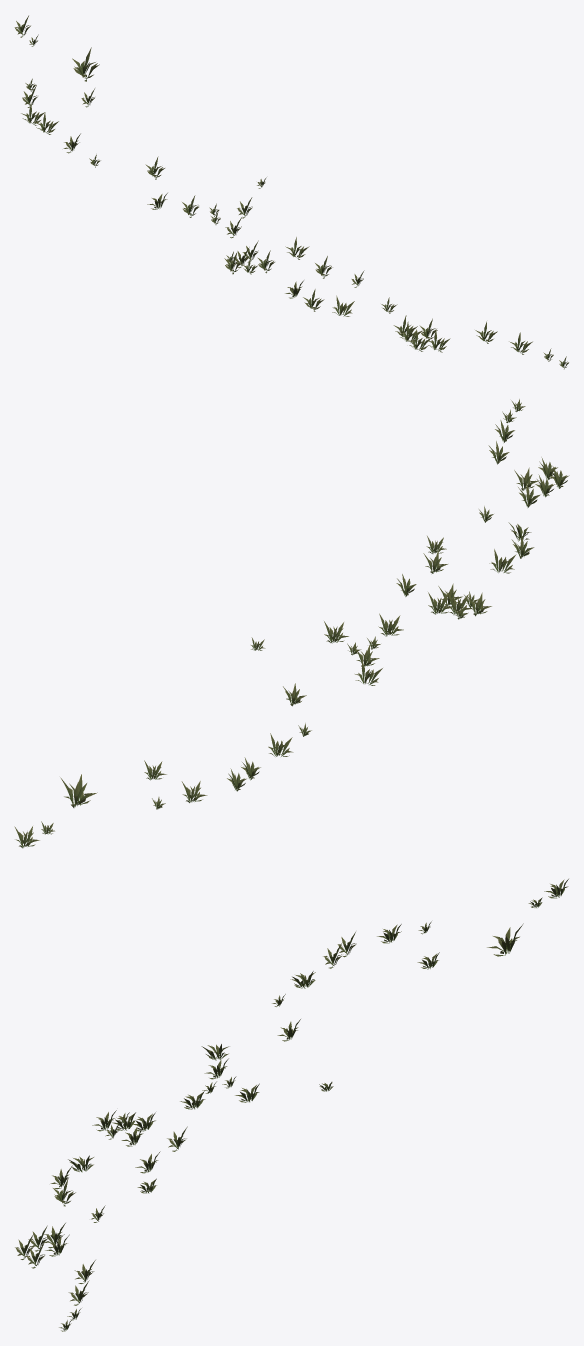
Rendered from Area_09_15.fbx.
3 renders of one model, top to bottom at view 1: azimuth 30°, elevation 25°; view 2: azimuth 150°, elevation 25°; view 3: azimuth 330°, elevation 25°, orthographic. The views are drawn at different scales.
Parts seen in each view (by area): view 1: Area_09_15; view 2: Area_09_15; view 3: Area_09_15.
Part boxes in pixels (x1,y1,x2,y2): Area_09_15: (14,15,568,369); Area_09_15: (14,399,569,848); Area_09_15: (15,879,568,1331).
Bounding box in the file's own units: 888 × 136 × 4642.
